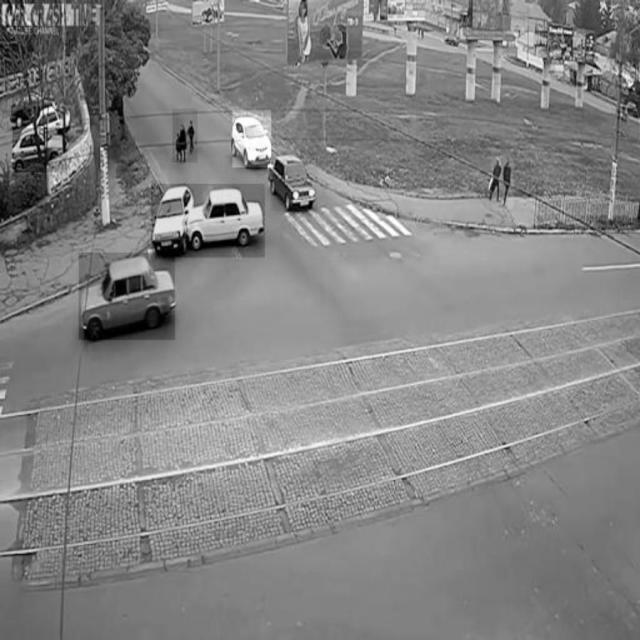accident: (152, 184, 265, 257)
person: (173, 109, 198, 163), (492, 149, 514, 210)
vehicle: (79, 253, 175, 341), (272, 150, 318, 211), (13, 128, 68, 173), (232, 110, 270, 167), (8, 91, 63, 125)
